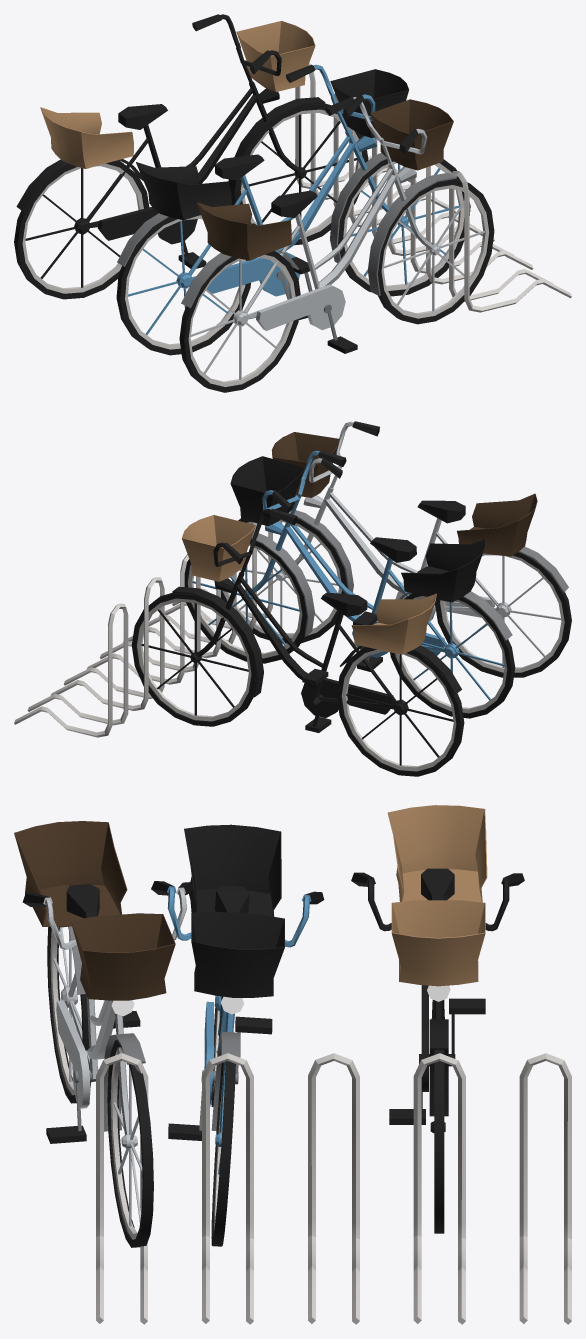
The model's file is SM_bikestand_full.fbx.
The picture shows the model from 3 angles, top to bottom: view 1: azimuth 30°, elevation 25°; view 2: azimuth 150°, elevation 25°; view 3: azimuth 270°, elevation 25°; orthographic projection. The views are drawn at different scales.
Visible parts, largest first — view 1: Line028; view 2: Line028; view 3: Line028.
Part boxes in pixels (bbox=[...]): Line028: bbox=[14, 14, 571, 392]; Line028: bbox=[14, 421, 571, 776]; Line028: bbox=[14, 805, 571, 1324].
Size of the model in its own units: 124 by 101 by 63.68.
